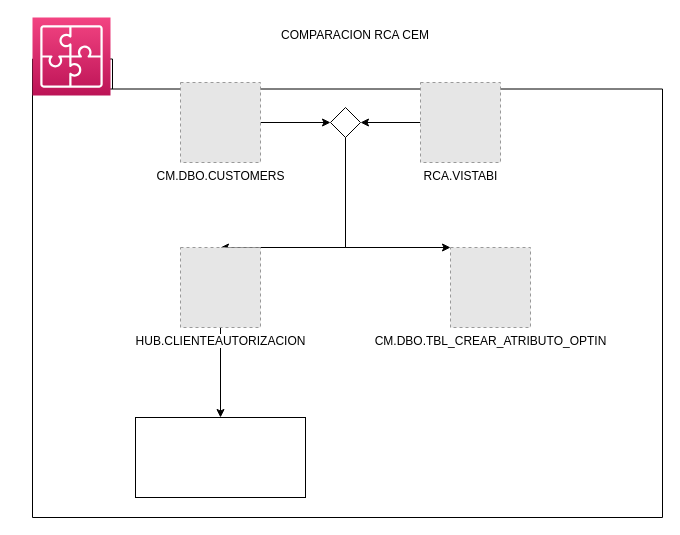
Some shapes in this 680 by 535 pixel diagram are drawn without their labels. Grey dashed boxes stand in for pictures. Each missing label, with the box of its shape:
Se asigna el atributo a los clientes en la tabla CLIENTESAUTORIZACION: (134, 416, 306, 498)
SSIS OPTIN CAJAS: (32, 16, 110, 96)
